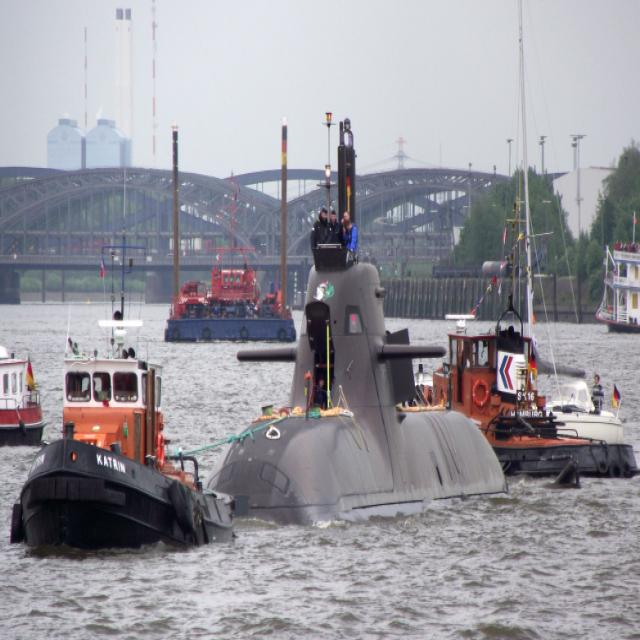submarine: (206, 150, 511, 546)
